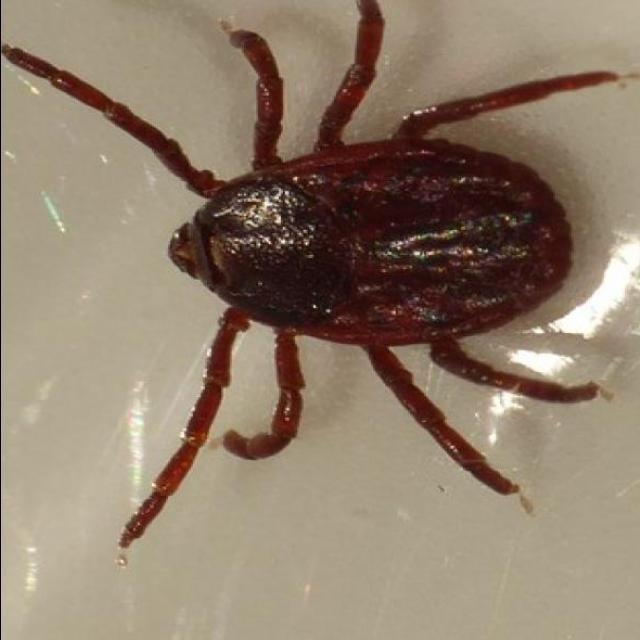Rhipicephalus Sanguineus-F: (1, 0, 626, 550)
